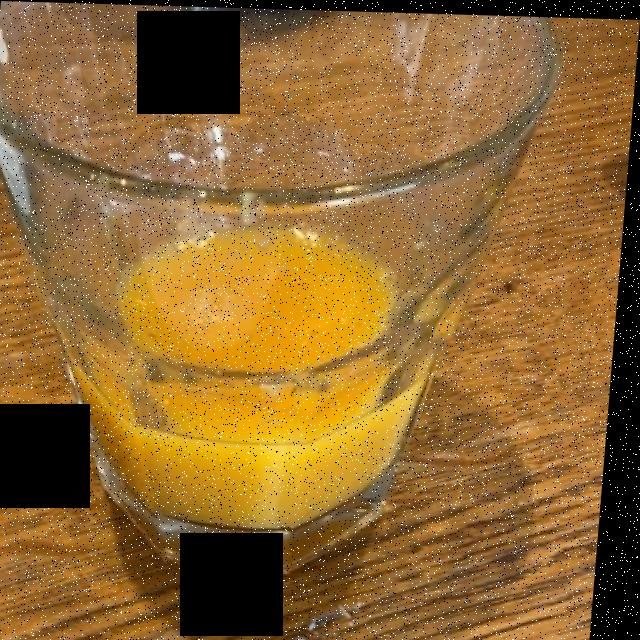juice-orange: (85, 214, 481, 525)
